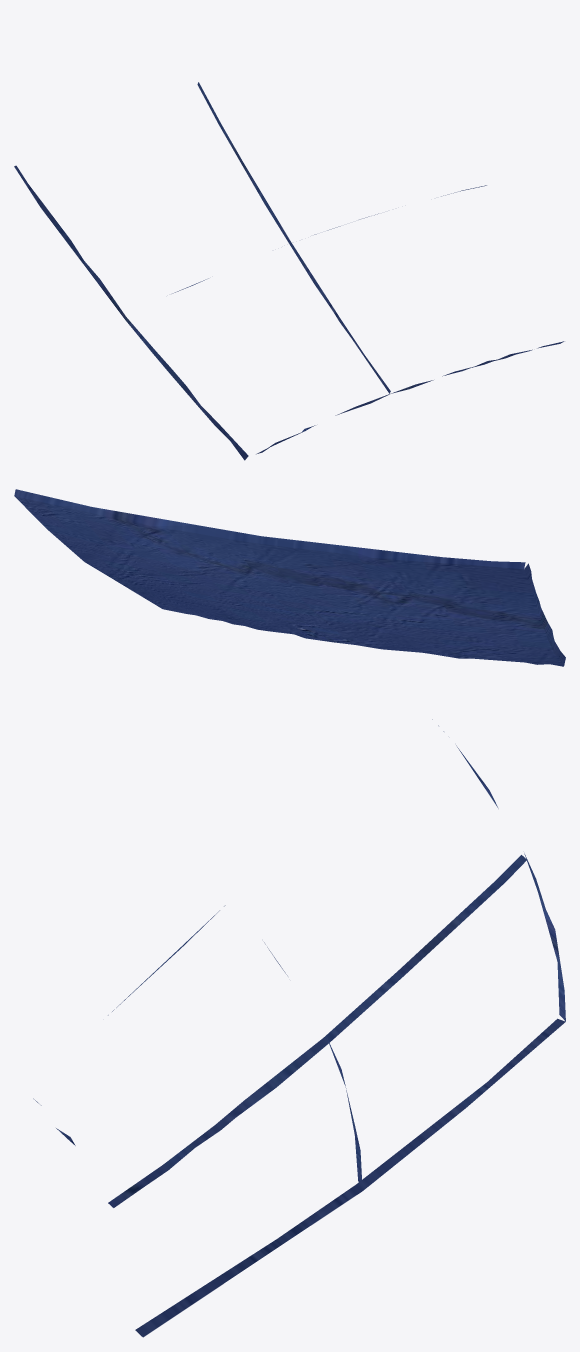
3 renders of one model, top to bottom at view 1: azimuth 30°, elevation 25°; view 2: azimuth 150°, elevation 25°; view 3: azimuth 270°, elevation 25°, orthographic. The views are drawn at different scales.
Bounding box in the file's own units: 1748038 × 823067 × 1264334.
1 material, 1 textured.
